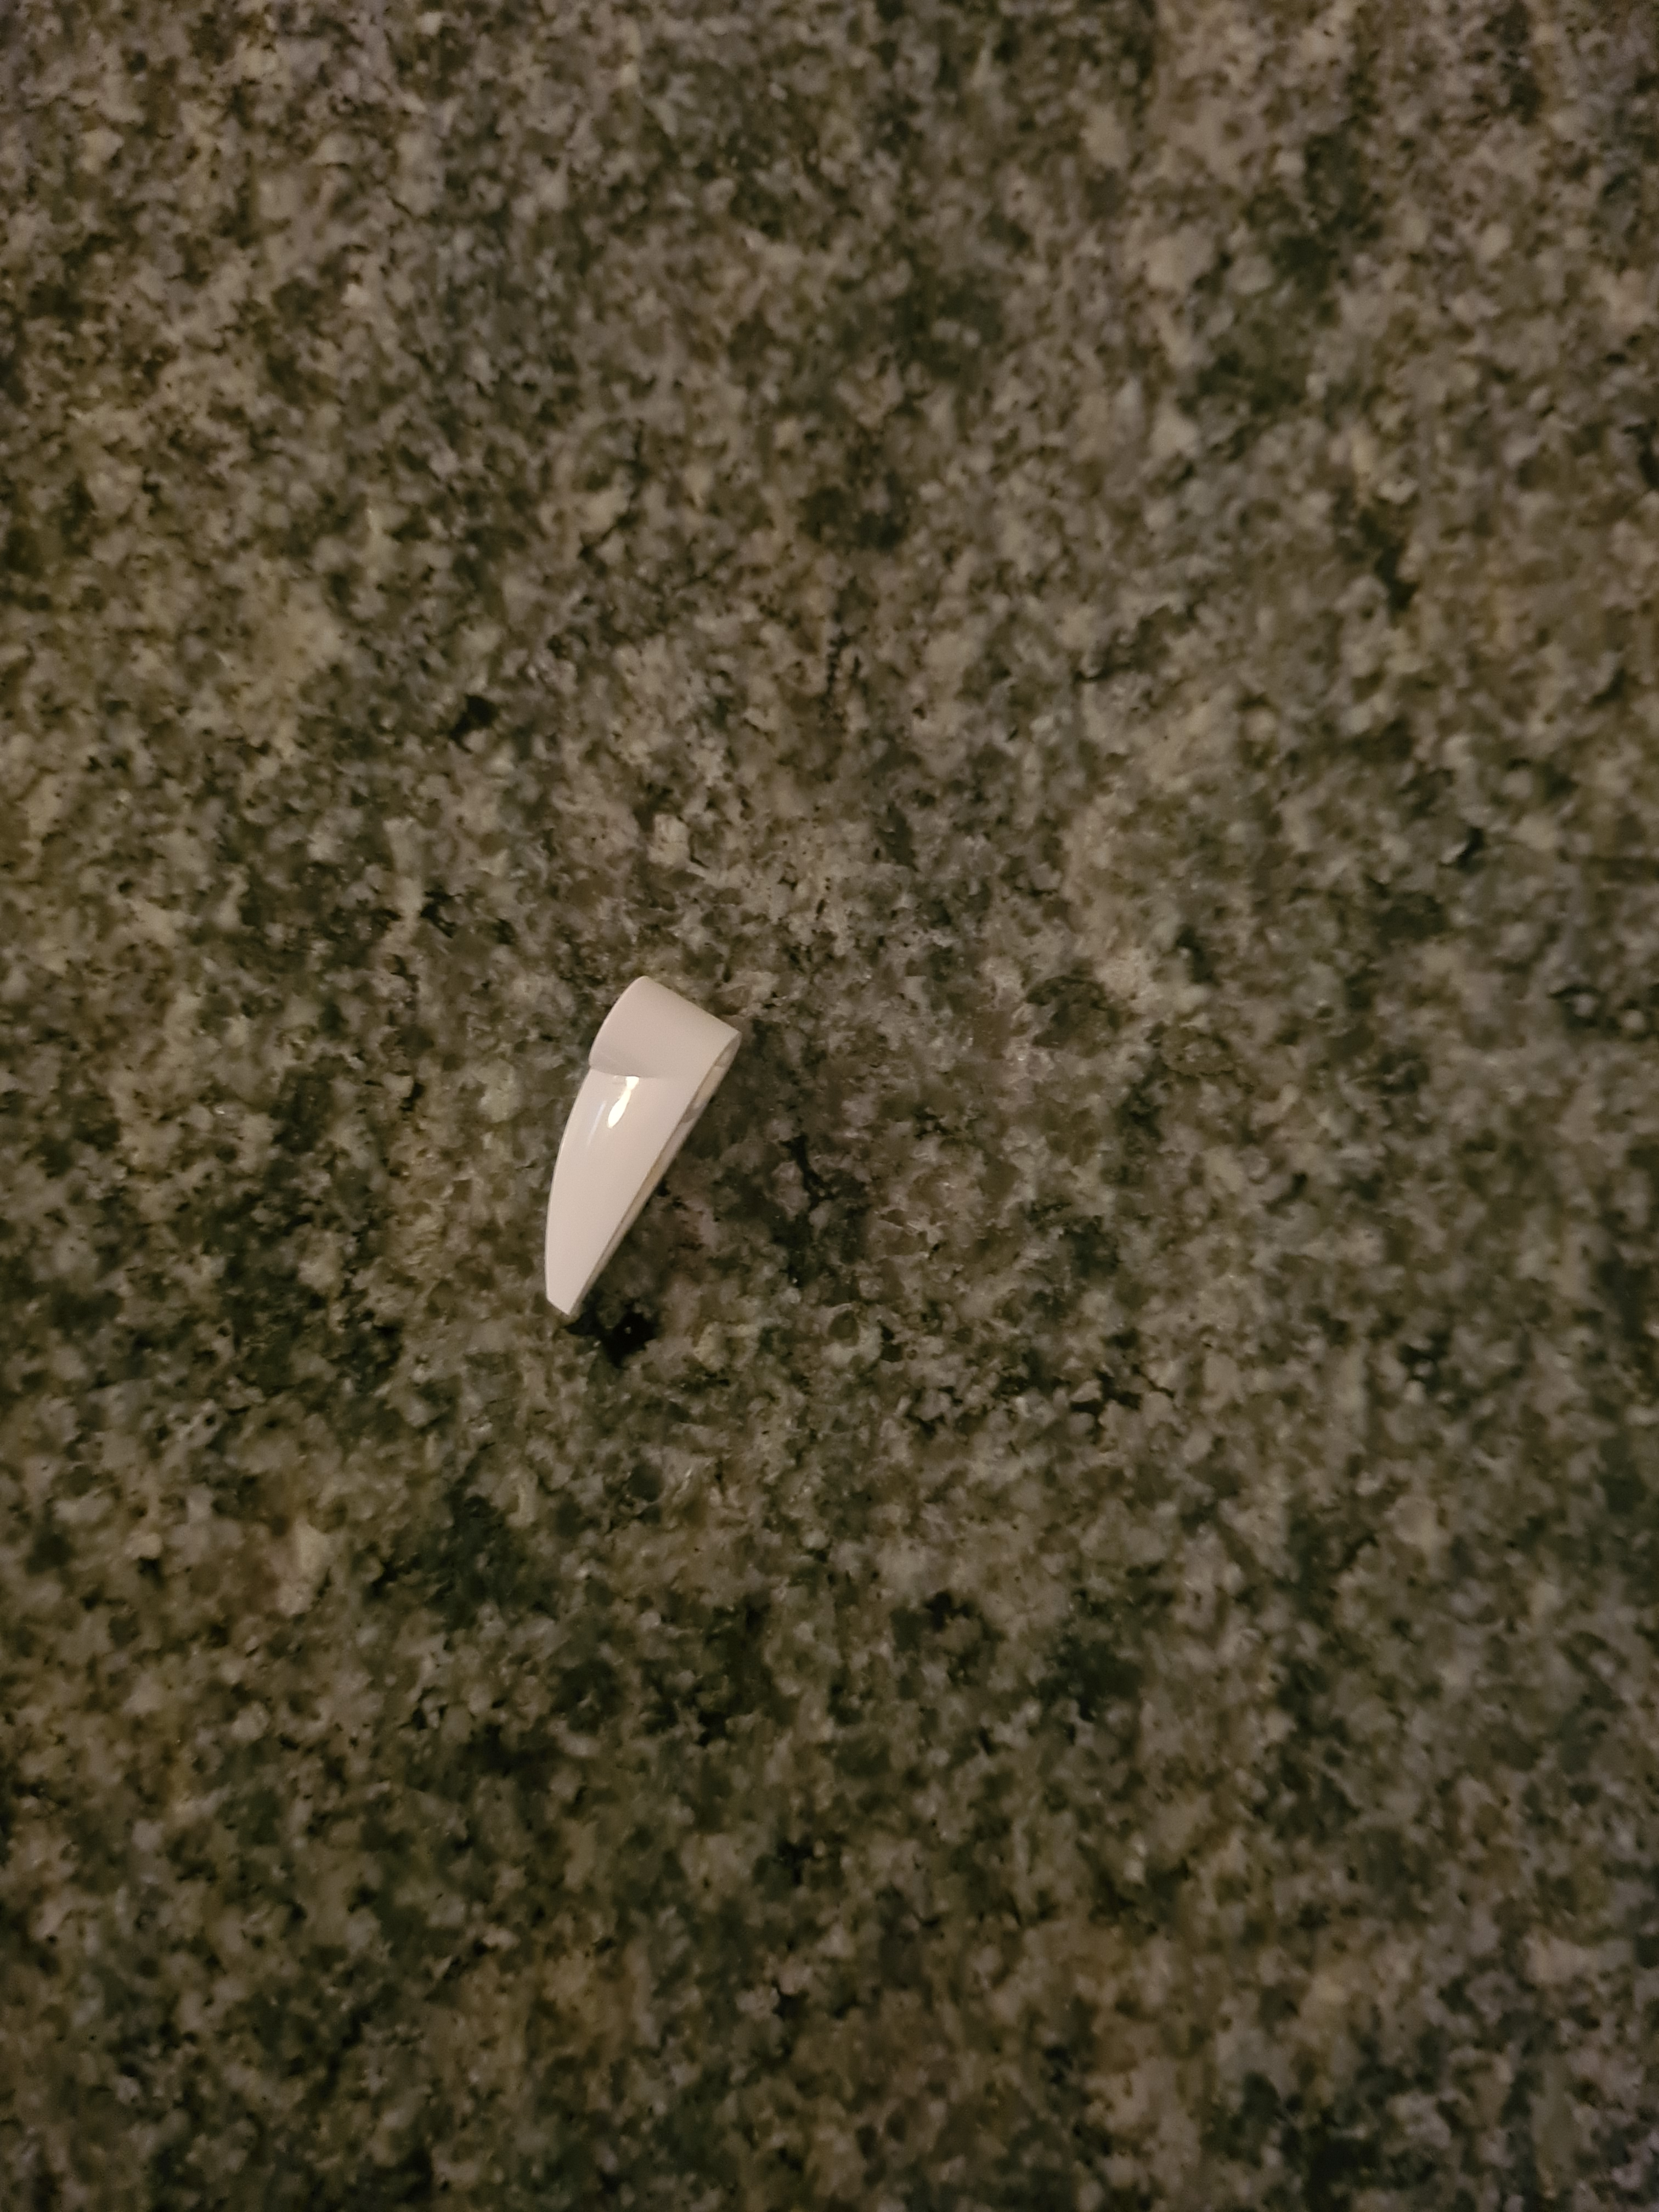Kappe: (512, 958, 756, 1341)
